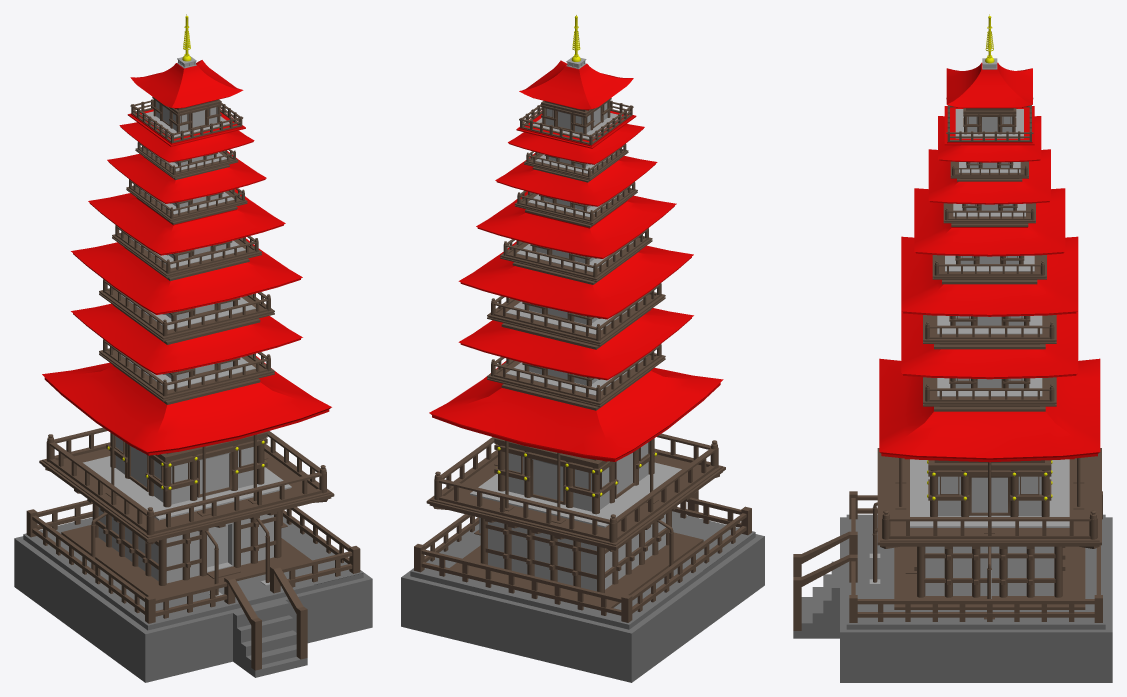
File: Japanese_house_02.fbx
3 renders of one model, left to right at view 1: azimuth 30°, elevation 25°; view 2: azimuth 150°, elevation 25°; view 3: azimuth 270°, elevation 25°, orthographic. The views are drawn at different scales.
Parts seen in each view (by area): view 1: Japanese_house_02; view 2: Japanese_house_02; view 3: Japanese_house_02.
Boxes of the visible parts, x1,y1,x2,y2 form: Japanese_house_02: [14, 14, 372, 682]; Japanese_house_02: [401, 15, 764, 682]; Japanese_house_02: [793, 14, 1112, 682].
Bounding box in the file's own units: 236 × 583 × 276.
